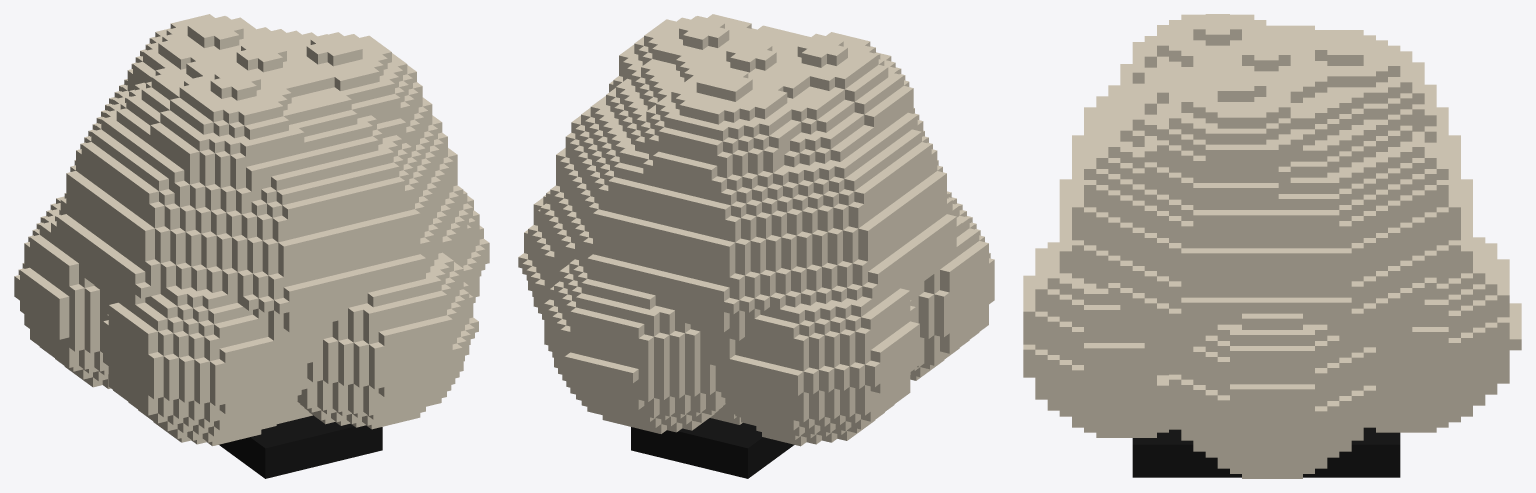
The model's file is tail_bunny_playboy.glb.
The picture shows the model from 3 angles, left to right: view 1: azimuth 30°, elevation 25°; view 2: azimuth 150°, elevation 25°; view 3: azimuth 270°, elevation 25°; orthographic projection. The views are drawn at different scales.
Parts seen in each view (by area): view 1: tail_bunny_playboy:compound; view 2: tail_bunny_playboy:compound; view 3: tail_bunny_playboy:compound.
Part boxes in pixels (x1,y1,x2,y2): tail_bunny_playboy:compound: [14, 14, 489, 478]; tail_bunny_playboy:compound: [518, 14, 994, 478]; tail_bunny_playboy:compound: [1023, 14, 1521, 478].
Size of the model in its own units: 0.08 by 0.072 by 0.082.
